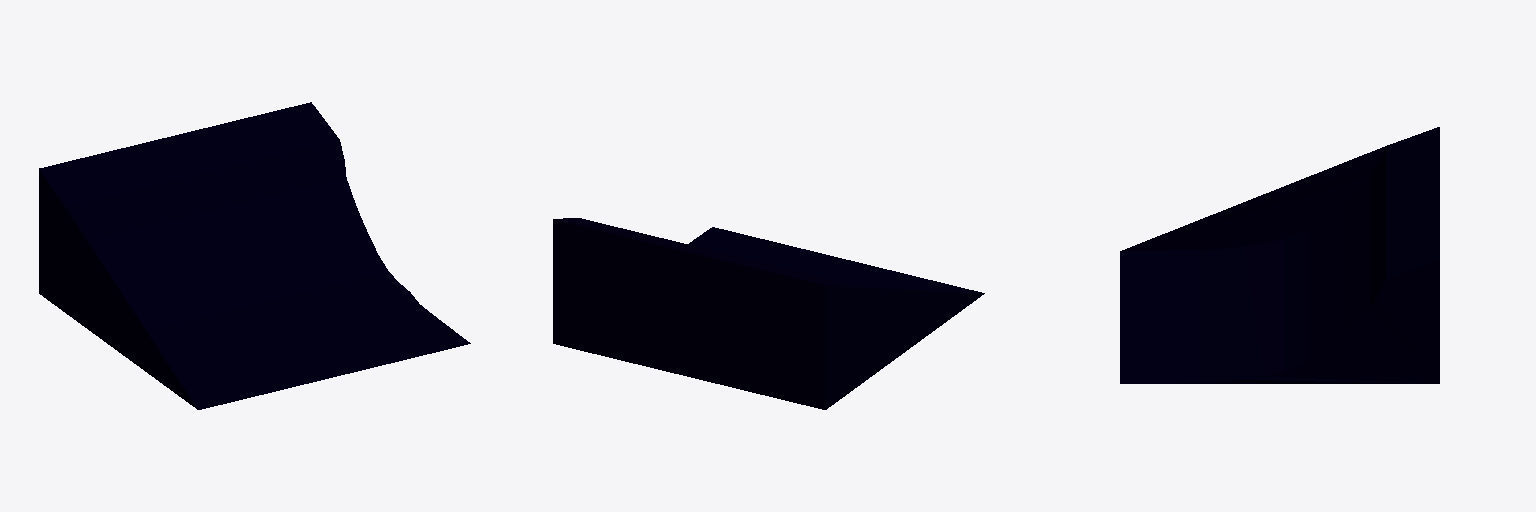
File: wheel_wedge.obj
3 views of the same model, side by side, from view 1: azimuth 30°, elevation 25°; view 2: azimuth 150°, elevation 25°; view 3: azimuth 270°, elevation 25° (orthographic).
Visible parts, largest first — view 1: Cube; view 2: Cube; view 3: Cube.
Part boxes in pixels (left/top/right/bottom): Cube: left=39, top=102, right=470, bottom=409; Cube: left=553, top=218, right=984, bottom=409; Cube: left=1120, top=127, right=1439, bottom=383.
Size of the model in its own units: 4.62 by 2 by 4.65.